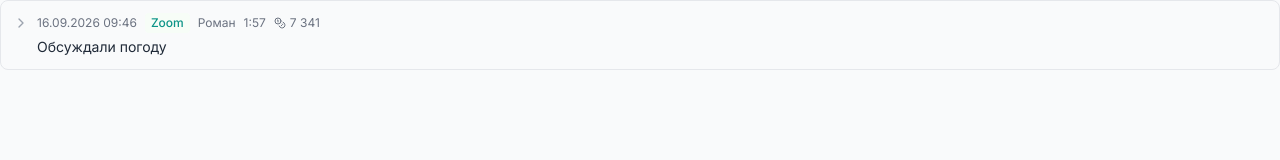
CallSessionItem › 404 с JSON-телом — тоже ошибка, а не пустая расшифровка
Click the button "16.09.2026 09:46 Zoom Роман 1:57 7 341 Обсуждали погоду" at (166, 34), box [13,13,320,55]
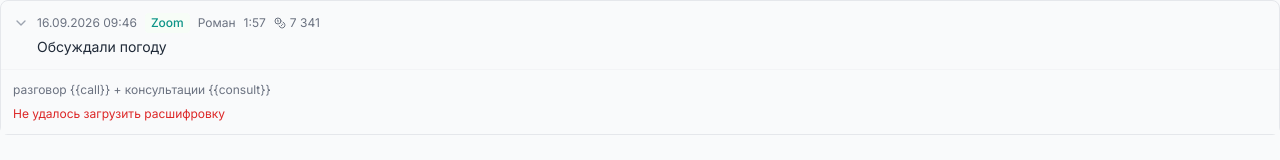
Check: the text "Не удалось загрузить расшифровку" is shown, box [13,106,225,121]
